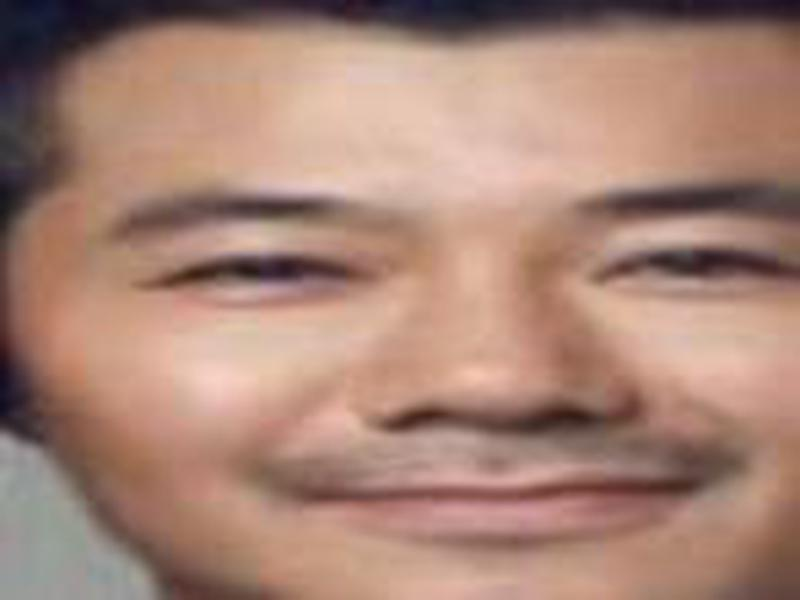without_mask: (23, 18, 800, 600)
